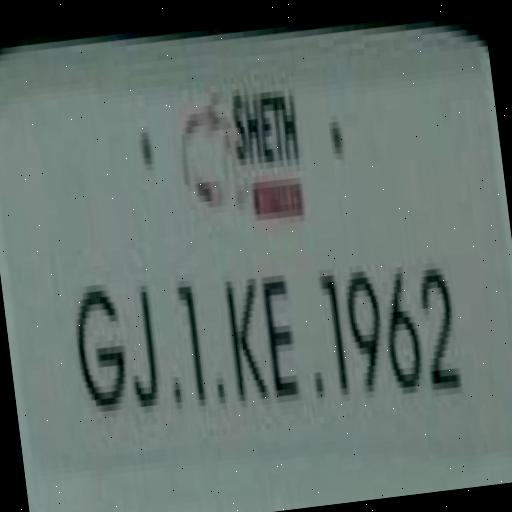number plate: (3, 23, 512, 496)
